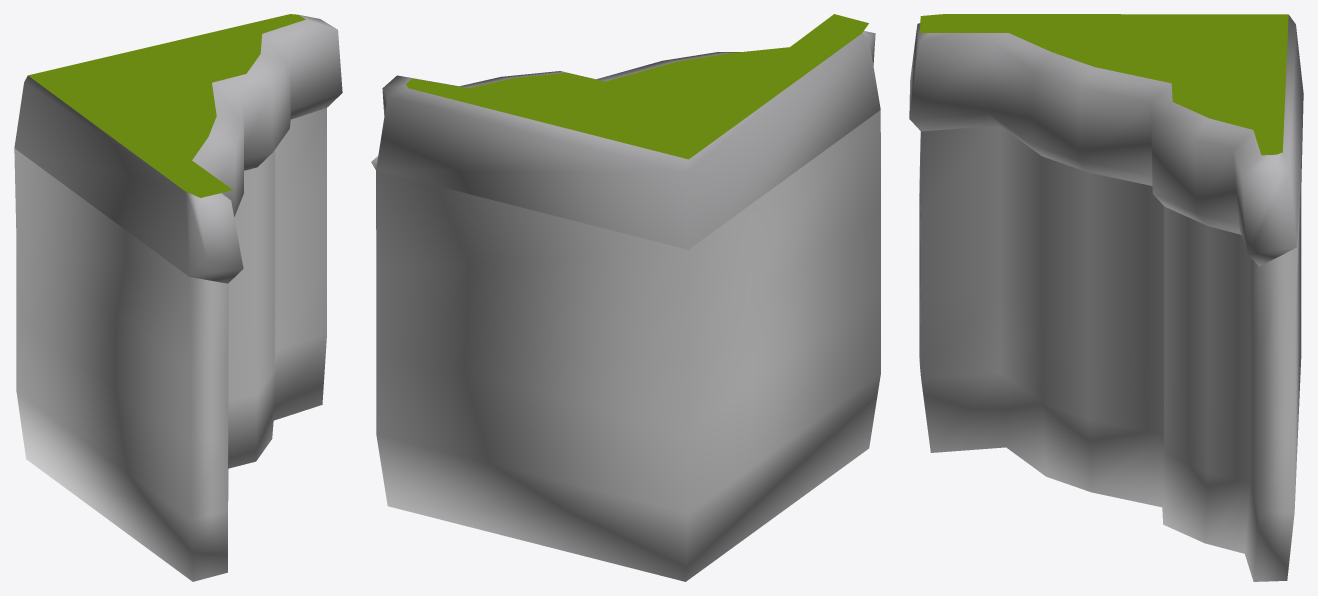
File: CliffCornerSmoothShaded.fbx
3 views of the same model, side by side, from view 1: azimuth 30°, elevation 25°; view 2: azimuth 150°, elevation 25°; view 3: azimuth 270°, elevation 25° (orthographic). The views are drawn at different scales.
Parts seen in each view (by area): view 1: Plane.008, Plane.002, Plane.001; view 2: Plane.008, Plane.002, Plane.001; view 3: Plane.008, Plane.002, Plane.001.
Part boxes in pixels (x1,y1,x2,y2): Plane.008: [14, 108, 326, 581]; Plane.002: [14, 14, 342, 283]; Plane.001: [28, 14, 305, 197]; Plane.008: [376, 110, 880, 581]; Plane.002: [371, 31, 880, 249]; Plane.001: [406, 14, 868, 159]; Plane.008: [919, 98, 1303, 581]; Plane.002: [909, 15, 1303, 266]; Plane.001: [919, 14, 1288, 155].
Size of the model in its own units: 1622 by 1972 by 1678.
